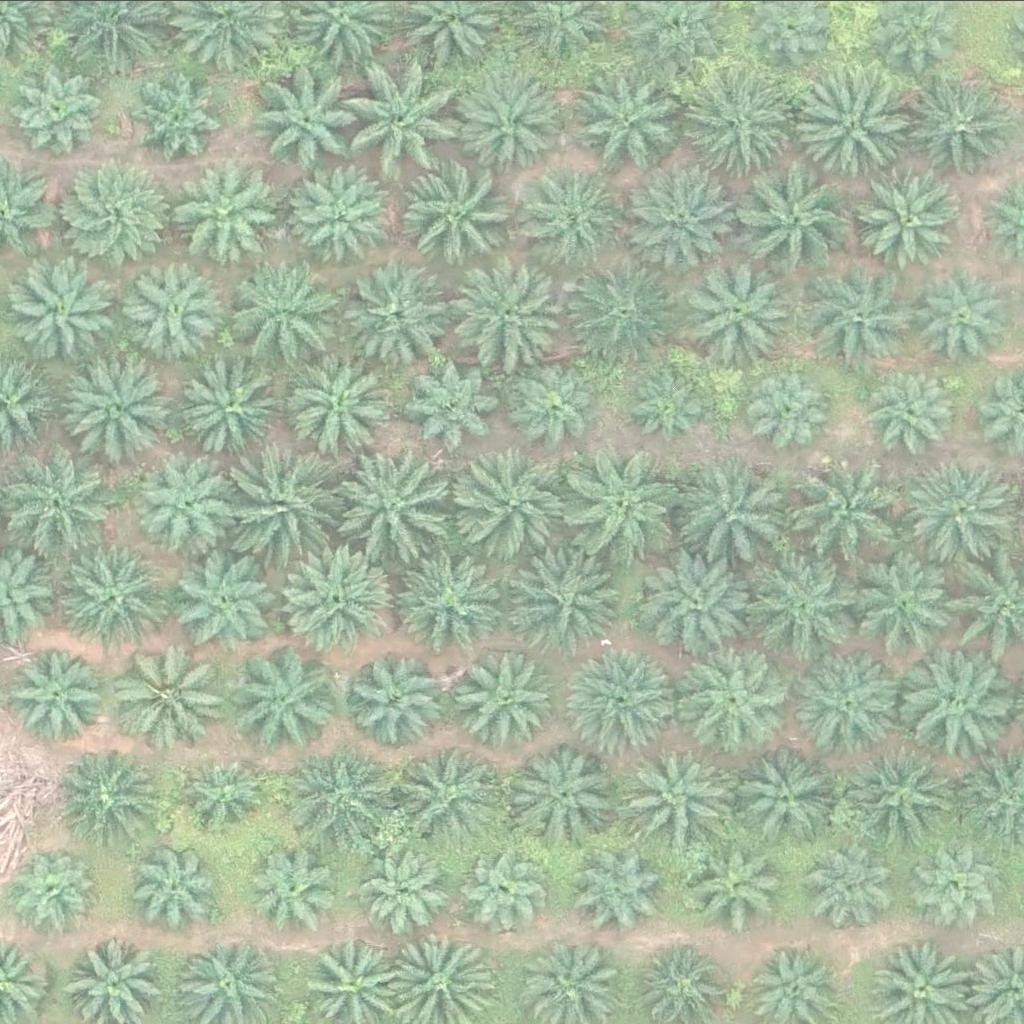Kelapa_Sawit: (348, 259, 462, 372), (505, 541, 619, 654), (904, 449, 1017, 562), (908, 653, 1021, 766), (454, 66, 567, 179), (571, 62, 684, 175), (687, 69, 800, 182), (401, 156, 514, 269), (231, 451, 344, 564), (460, 442, 573, 555), (641, 548, 754, 661), (395, 541, 508, 654), (232, 644, 345, 757), (567, 642, 680, 755), (629, 736, 742, 849), (387, 738, 500, 851), (287, 737, 400, 850), (52, 161, 165, 274), (9, 254, 122, 367), (53, 543, 166, 656), (853, 153, 967, 265), (565, 448, 679, 560), (843, 739, 957, 851), (350, 65, 463, 177), (800, 63, 913, 175), (732, 162, 845, 274), (623, 166, 736, 278), (230, 253, 343, 365), (462, 252, 575, 364), (564, 253, 677, 365), (683, 252, 796, 364), (804, 263, 917, 375), (283, 347, 396, 459), (343, 446, 456, 558), (675, 457, 788, 569), (785, 452, 898, 564), (840, 550, 953, 662), (749, 551, 862, 663), (279, 543, 392, 655), (796, 644, 909, 756), (58, 349, 171, 461), (3, 445, 116, 557), (116, 635, 229, 747), (528, 163, 629, 263), (291, 157, 392, 257), (405, 352, 506, 452), (350, 652, 451, 752), (454, 644, 555, 744), (691, 648, 792, 748), (735, 752, 836, 852), (518, 741, 619, 841), (123, 67, 224, 167), (173, 168, 274, 268), (122, 259, 223, 359), (184, 362, 285, 462), (139, 453, 240, 553), (174, 553, 275, 653), (8, 641, 109, 741), (907, 262, 1007, 362), (262, 74, 362, 174), (4, 54, 104, 154), (62, 747, 162, 847), (254, 850, 342, 938), (366, 846, 454, 934), (692, 841, 780, 929), (812, 836, 900, 924), (175, 750, 263, 838), (866, 364, 954, 451), (742, 364, 830, 451), (509, 353, 597, 440), (463, 845, 551, 932), (582, 844, 670, 931), (917, 842, 1005, 929), (129, 844, 217, 931), (6, 847, 94, 934), (632, 367, 708, 442)
